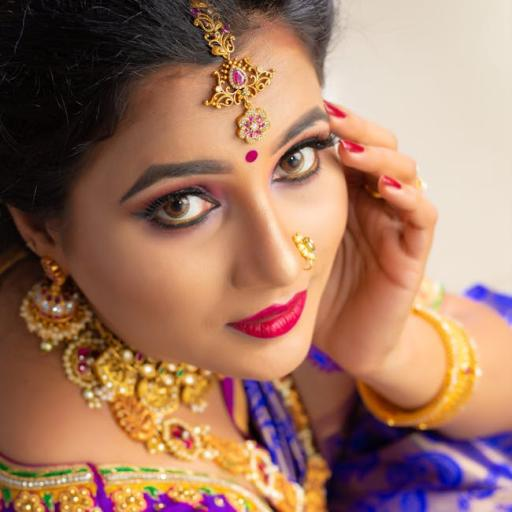lipstick: (229, 290, 306, 338)
